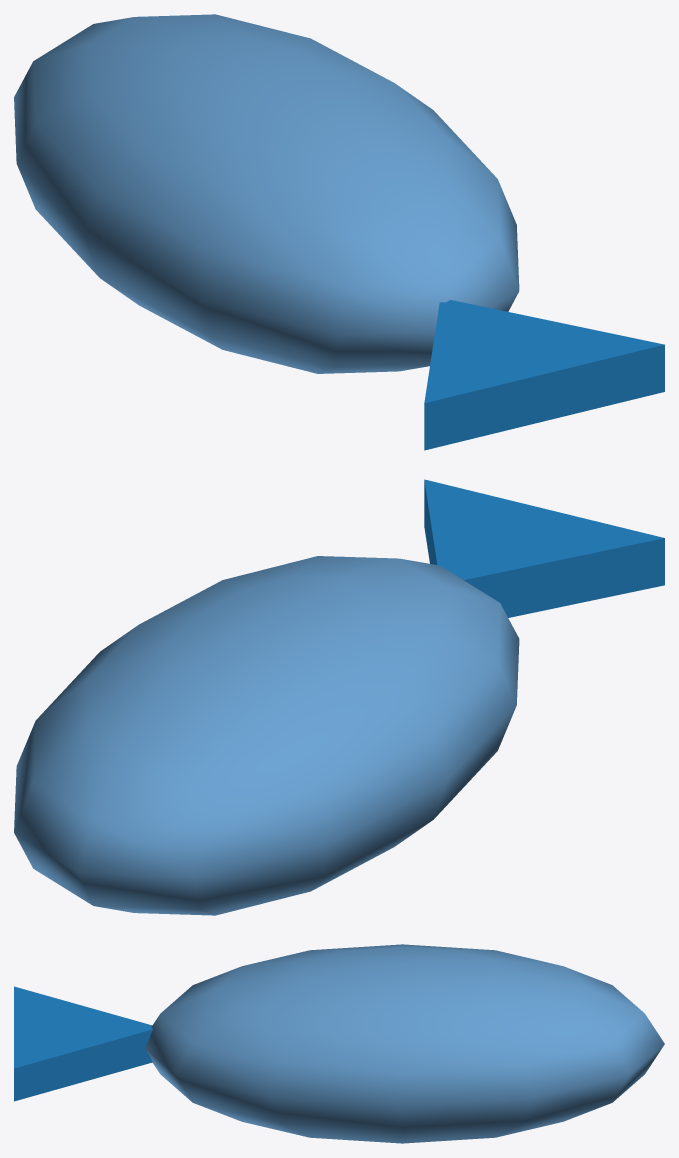
Rendered from food_fish.glb.
3 views of the same model, one above another, from view 1: azimuth 30°, elevation 25°; view 2: azimuth 150°, elevation 25°; view 3: azimuth 270°, elevation 25° (orthographic). The views are drawn at different scales.
Visible parts, largest first — view 1: food_fish, food_fish_tail; view 2: food_fish, food_fish_tail; view 3: food_fish, food_fish_tail.
Part boxes in pixels (<box>): food_fish: <box>14,14,519,373</box>; food_fish_tail: <box>424,300,664,450</box>; food_fish: <box>14,556,519,915</box>; food_fish_tail: <box>424,479,664,617</box>; food_fish: <box>145,944,664,1143</box>; food_fish_tail: <box>14,986,152,1101</box>.
Size of the model in its own units: 0.12 by 0.072 by 0.268.
